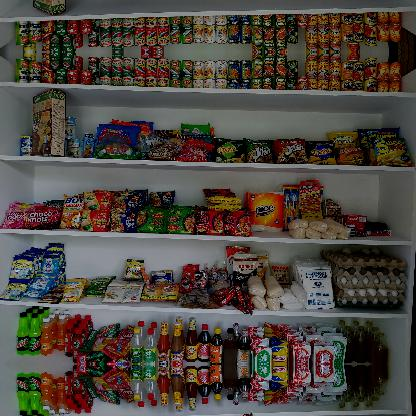Koko-Krunch: (32, 89, 66, 157), (32, 0, 66, 16)
